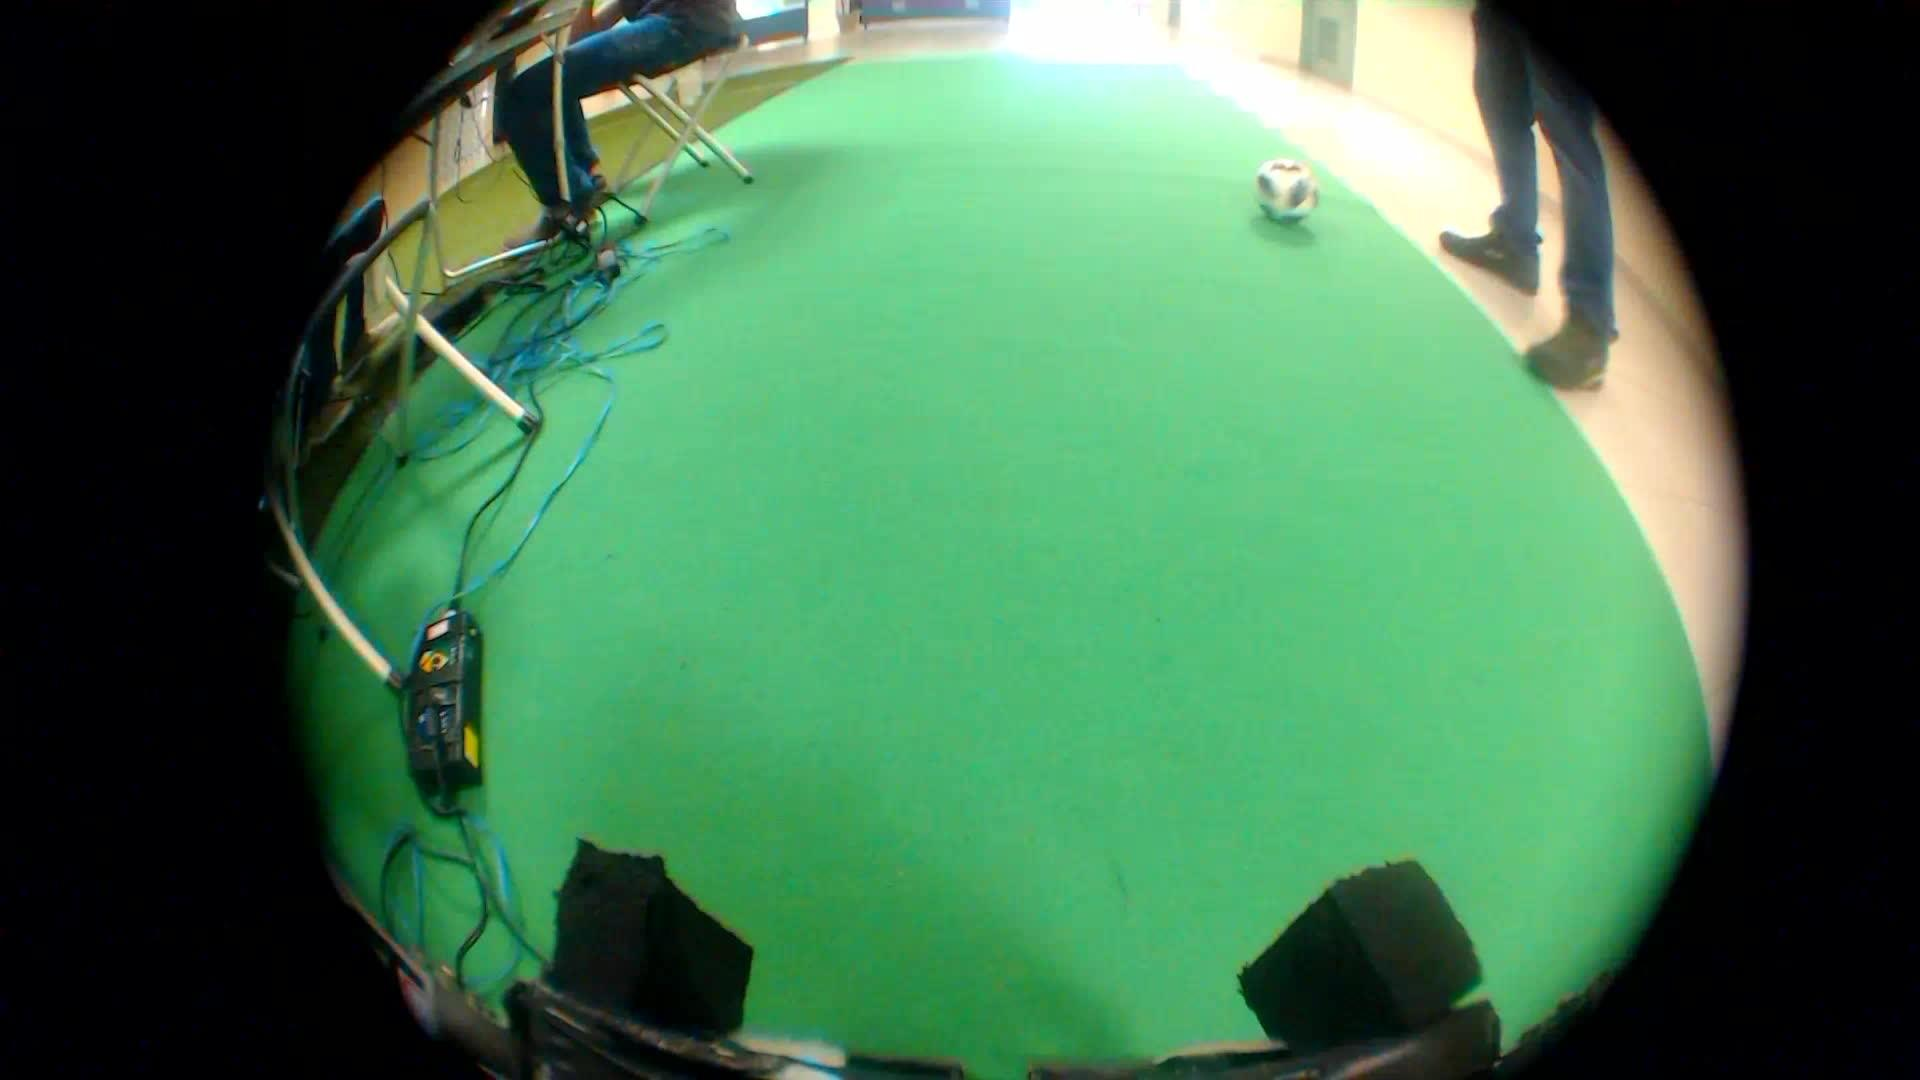ball: (1250, 142, 1329, 231)
